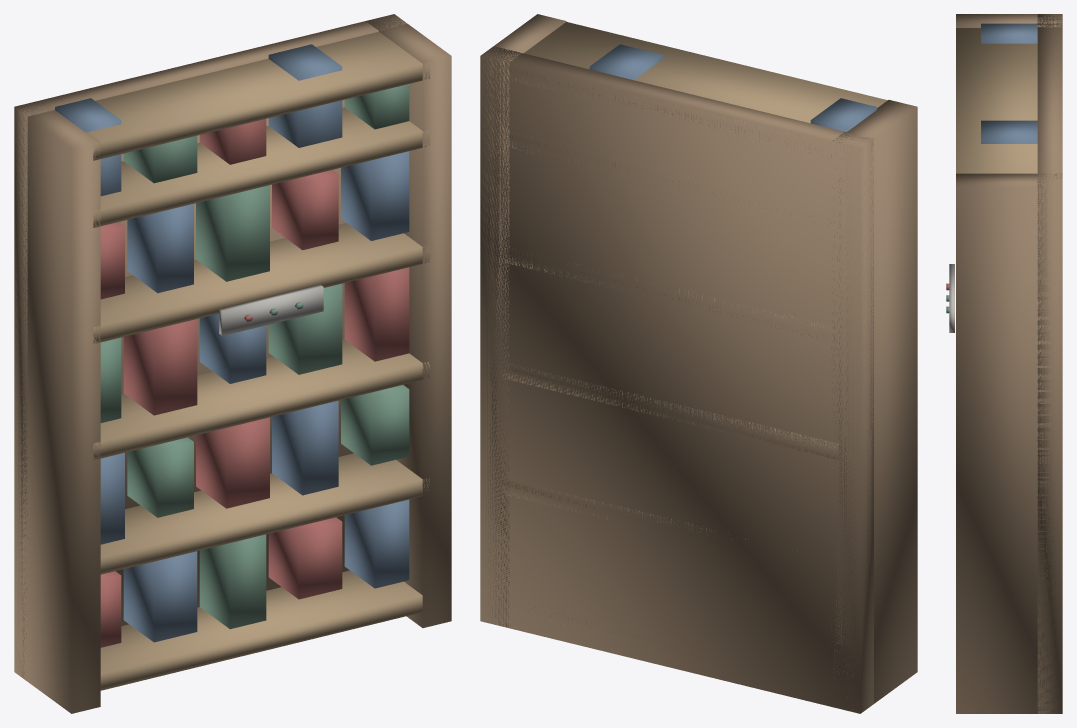
The model's file is library_stack_bay__wide.glb.
3 views of the same model, side by side, from view 1: azimuth 30°, elevation 25°; view 2: azimuth 150°, elevation 25°; view 3: azimuth 270°, elevation 25° (orthographic). The views are drawn at different scales.
Parts seen in each view (by area): view 1: world; view 2: world; view 3: world.
Boxes of the visible parts, x1=… form: world: x1=14, y1=14, x2=451, y2=713; world: x1=480, y1=14, x2=917, y2=713; world: x1=946, y1=14, x2=1062, y2=713.
Bounding box in the file's own units: 1.3 × 1.86 × 0.371.
